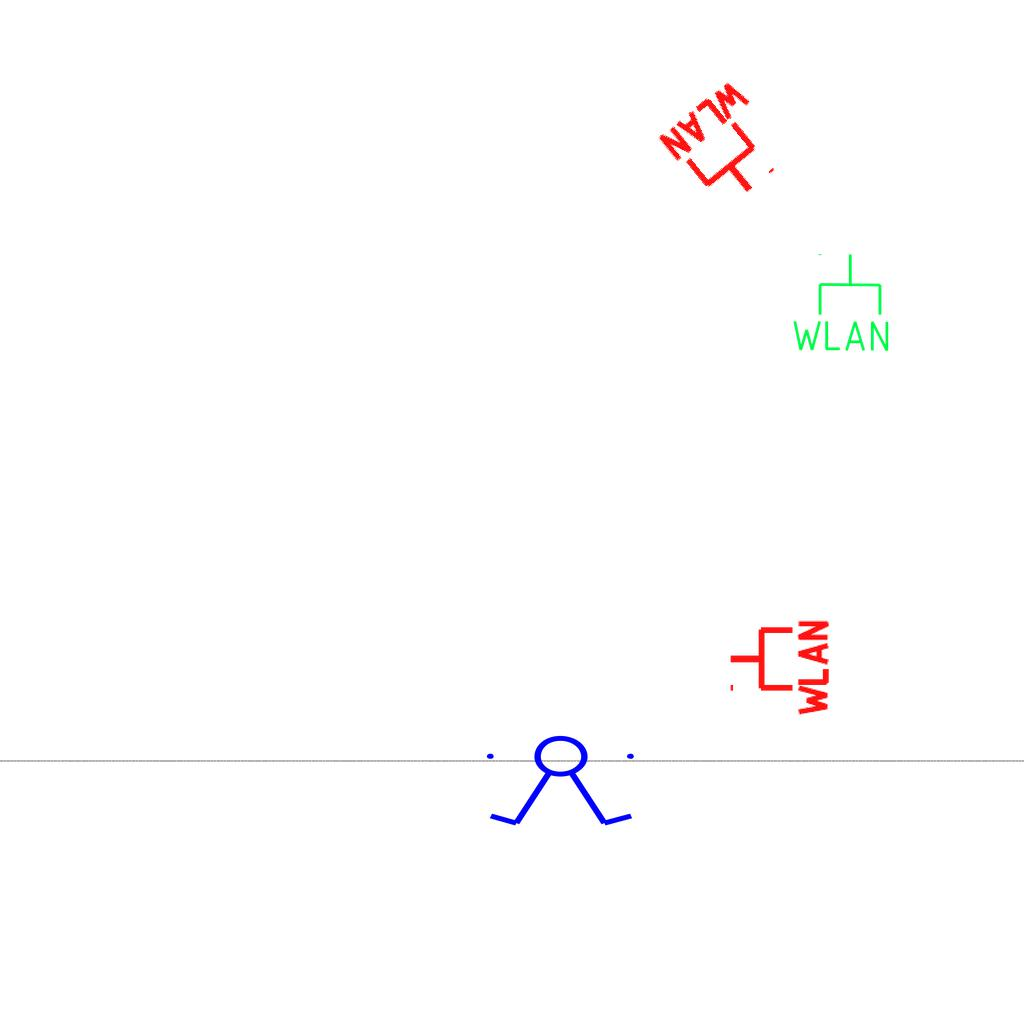Serienschalter: (478, 734, 646, 830)
WLAN: (653, 73, 800, 221), (788, 251, 893, 355), (726, 616, 831, 720)
